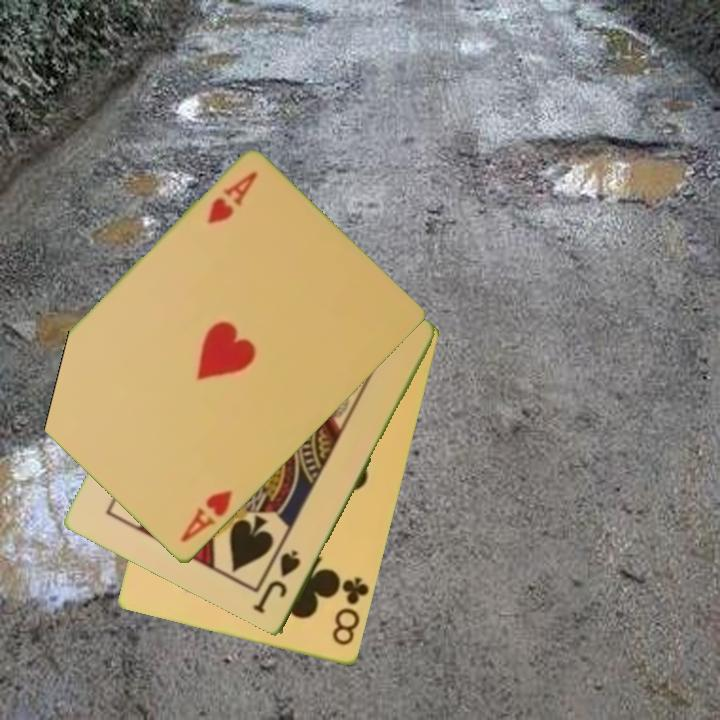8c: (329, 574, 372, 649)
Ah: (176, 487, 235, 546), (204, 168, 261, 228)
Js: (252, 547, 304, 617)
